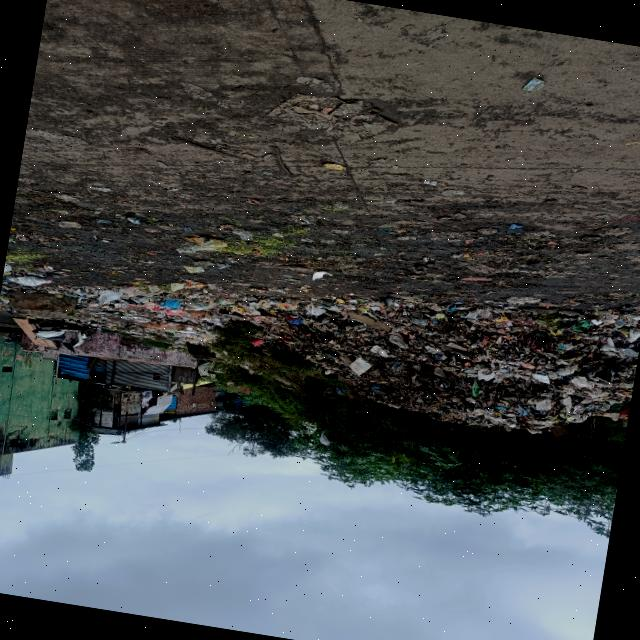garbage: (329, 271, 640, 445), (8, 253, 329, 374)
